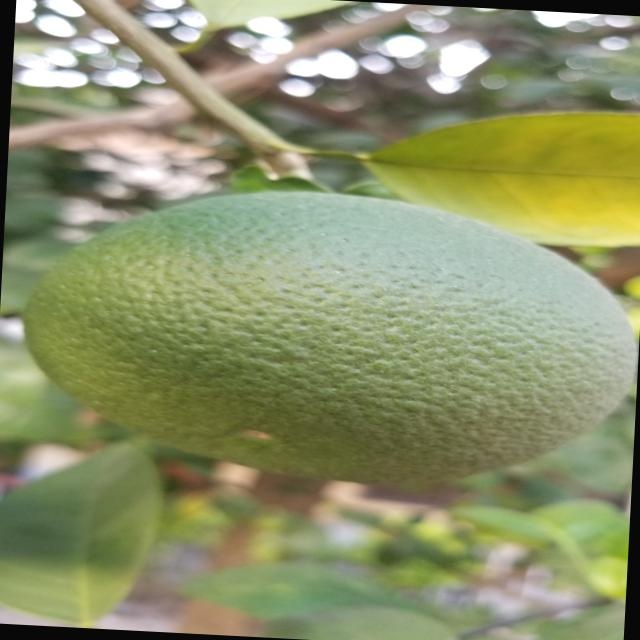agrume: (8, 172, 640, 488)
